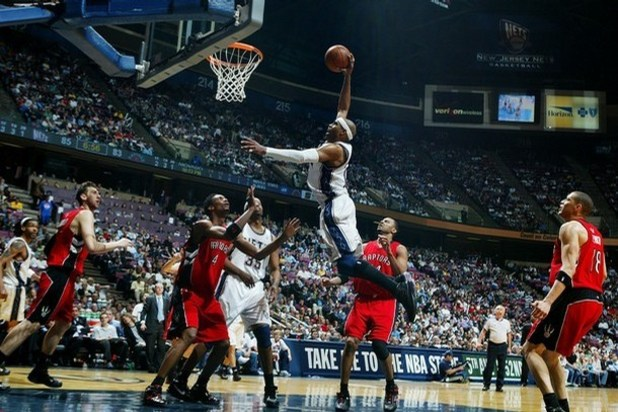ball: (314, 36, 356, 78)
basket: (198, 34, 266, 106)
defense: (158, 189, 282, 410)
shoot: (245, 60, 424, 317)
